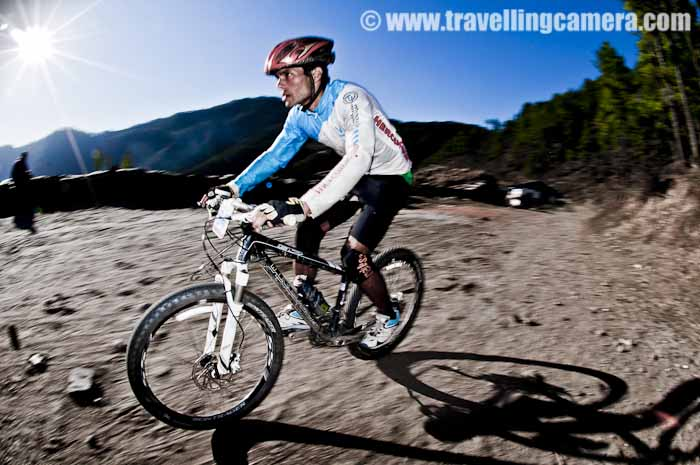with_helmet: (255, 36, 334, 91)
